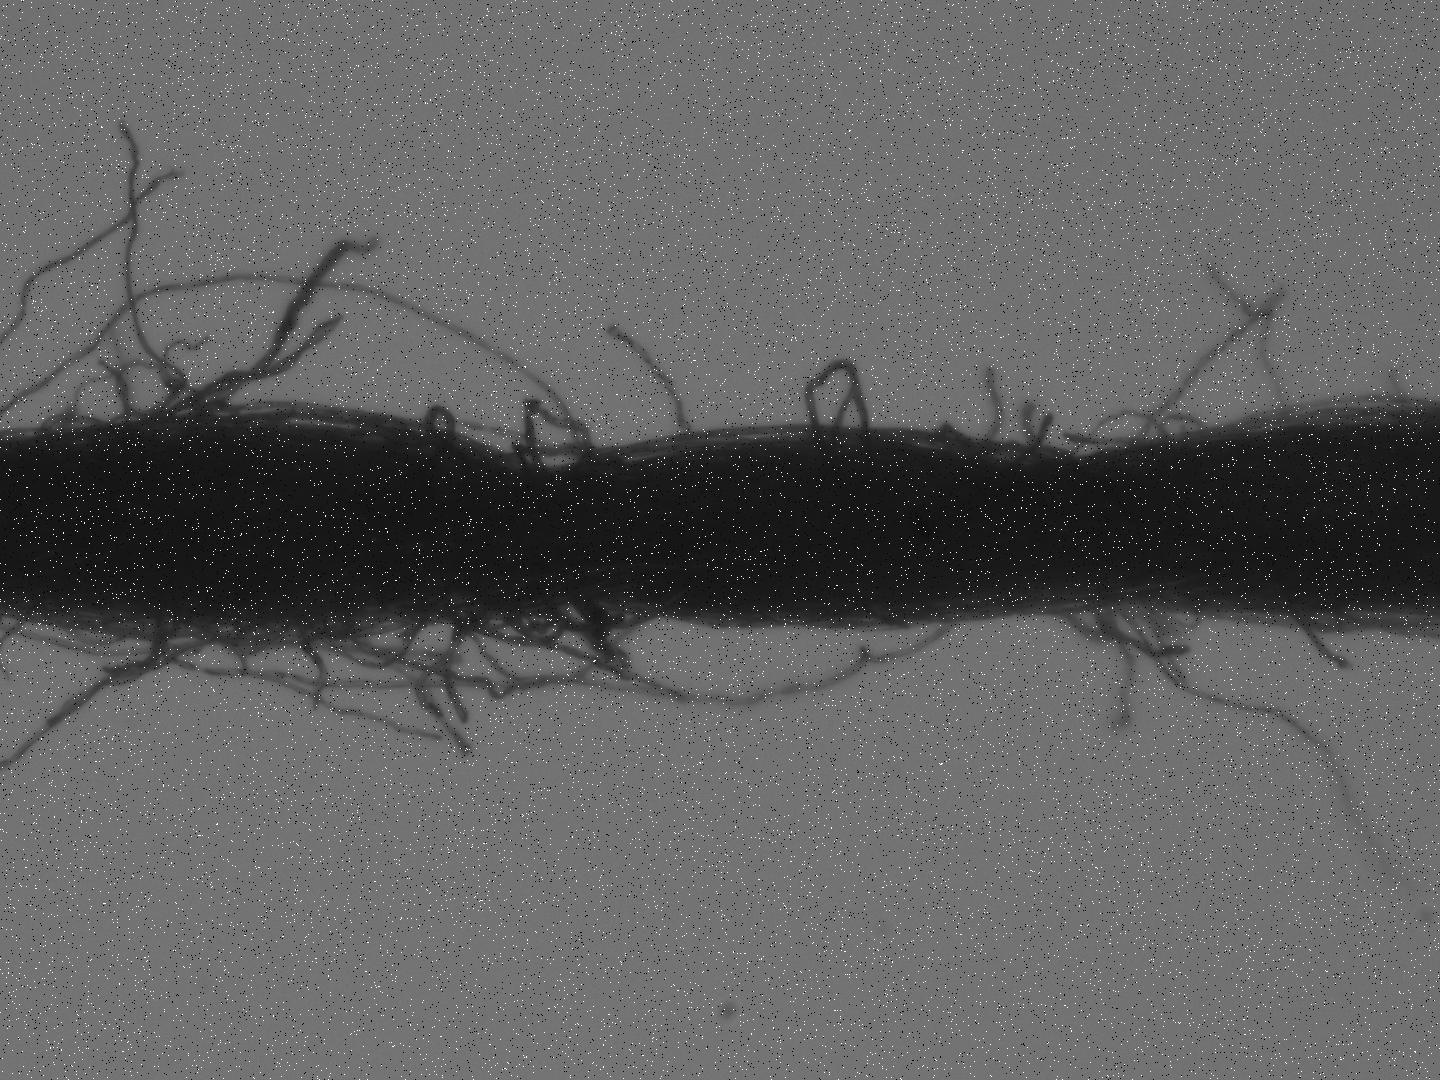loop_fiber: (458, 601, 620, 685), (298, 613, 422, 669), (803, 357, 871, 447), (435, 605, 564, 644), (526, 400, 592, 476), (1062, 406, 1166, 454), (185, 618, 286, 657), (545, 598, 657, 632), (1120, 600, 1202, 626), (1066, 601, 1116, 643), (423, 405, 456, 444)
protruding_fiber: (211, 221, 379, 414), (111, 113, 184, 415), (599, 320, 697, 442), (1285, 608, 1349, 674), (1100, 614, 1187, 659), (1015, 405, 1060, 464), (979, 358, 1003, 453)
